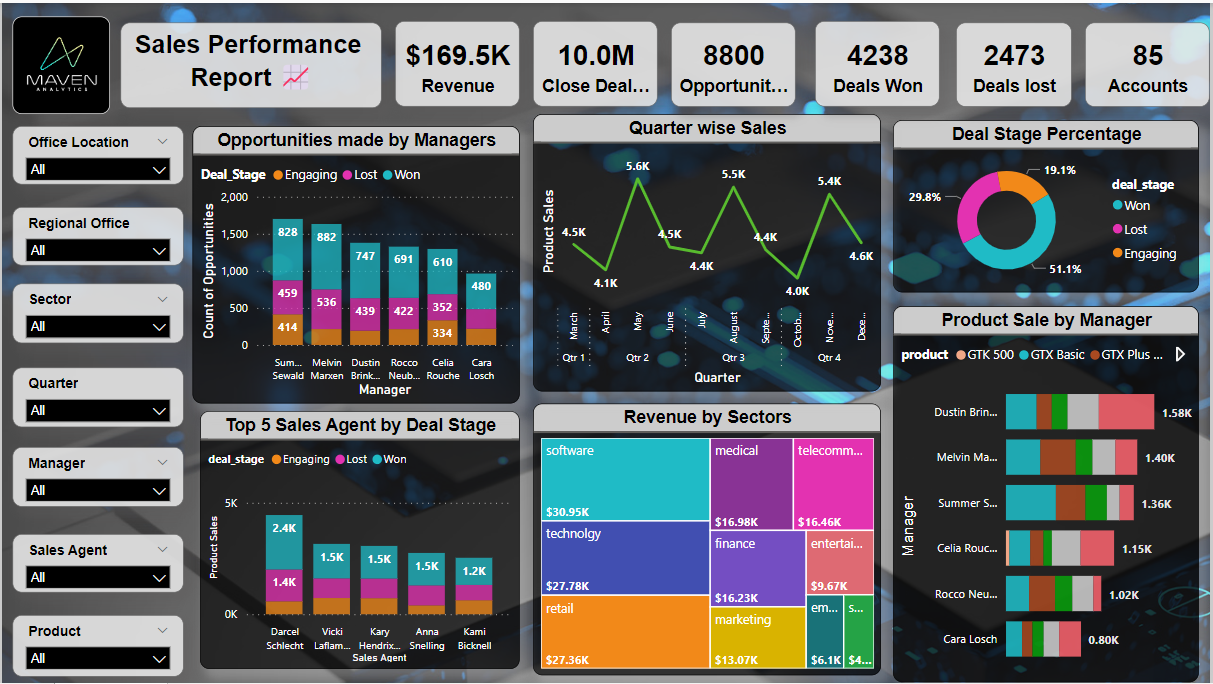

This screenshot's page, from the dashboard's own definition file:
{"tool":"powerbi","page":{"name":"Page 1","canvas":[1280,720],"ordinal":0},"visuals":[{"type":"image","box":[11.1,14.3,103.3,103.3],"z":0},{"type":"card","title":"Sum of Revenue","fields":{"Values":["accounts.revenue"]},"box":[416.4,19.1,131.9,90.6],"z":1000},{"type":"slicer","fields":{"Values":["sales_teams.regional_office"]},"box":[11.1,216.2,181.2,62],"z":2000},{"type":"slicer","fields":{"Values":["sales_pipeline.close_date.Variation.Date Hierarchy.Quarter"]},"box":[11.1,386.2,181.2,63.6],"z":3000},{"type":"slicer","fields":{"Values":["accounts.sector"]},"box":[11.1,297.2,181.2,63.6],"z":4000},{"type":"donutChart","title":"Deal Stage Percentage","fields":{"Category":["sales_pipeline.deal_stage"],"Y":["sales_pipeline.product"]},"box":[944.1,124,324.2,182.8],"z":5000},{"type":"treemap","title":"Revenue by Sectors","fields":{"Values":["accounts.revenue"],"Group":["accounts.sector"]},"box":[562.6,424.4,368.7,287.7],"z":6000},{"type":"barChart","title":"Product Sale by Manager","fields":{"Category":["sales_teams.manager"],"Y":["sales_pipeline.product"],"Series":["products.product"]},"box":[944.1,321.1,324.2,398.9],"z":7000},{"type":"card","fields":{"Values":["sales_pipeline.close_value"]},"box":[562.6,19.1,131.9,90.6],"z":8000},{"type":"card","fields":{"Values":["sales_pipeline.Deals lost"]},"box":[1010.9,20.7,122.4,89],"z":9000},{"type":"slicer","fields":{"Values":["products.product"]},"box":[11.1,648.5,181.2,65.2],"z":10000},{"type":"slicer","fields":{"Values":["sales_teams.manager"]},"box":[11.1,470.5,181.2,63.6],"z":11000},{"type":"slicer","fields":{"Values":["sales_pipeline.sales_agent"]},"box":[11.1,562.6,181.2,62],"z":12000},{"type":"card","fields":{"Values":["accounts.account"]},"box":[1147.5,20.7,131.9,89],"z":13000},{"type":"columnChart","title":"Top 5 Sales Agent by Deal Stage","fields":{"Category":["sales_pipeline.sales_agent"],"Y":["sales_pipeline.Product Sales"],"Series":["sales_pipeline.deal_stage"]},"box":[209.8,432.3,338.5,273.4],"z":14000},{"type":"lineChart","title":"Quarter wise Sales","fields":{"Y":["sales_pipeline.Product Sales"],"Category":["sales_pipeline.close_date.Variation.Date Hierarchy.Quarter","sales_pipeline.close_date.Variation.Date Hierarchy.Month"]},"box":[562.6,117.6,368.7,294],"z":15000},{"type":"textbox","box":[125.6,20.7,276.6,90.6],"z":16000},{"type":"slicer","fields":{"Values":["accounts.office_location"]},"box":[11.1,130.3,181.2,62],"z":17000},{"type":"card","fields":{"Values":["sales_pipeline.opportunity_id"]},"box":[708.9,20.7,131.9,89],"z":18000},{"type":"card","fields":{"Values":["sales_pipeline.Deals Won"]},"box":[861.5,19.1,131.9,90.6],"z":19000},{"type":"columnChart","title":"Opportunities made by Managers ","fields":{"Category":["sales_teams.manager"],"Y":["sales_pipeline.opportunity_id"],"Series":["sales_pipeline.deal_stage"]},"box":[201.9,130.3,346.5,294],"z":20000}]}

Visuals, with their boxes in screenshot pixels (x1, y1, x2, y2), scaled from the page's 1280x720 canvas onto the 1213x684 screenshot:
image: <box>11,14,108,112</box>
"Sum of Revenue" card: <box>395,18,520,104</box>
slicer - sales_teams.regional_office: <box>11,205,182,264</box>
slicer - sales_pipeline.close_date.Variation.Date Hierarchy.Quarter: <box>11,367,182,427</box>
slicer - accounts.sector: <box>11,282,182,343</box>
"Deal Stage Percentage" donutChart: <box>895,118,1202,291</box>
"Revenue by Sectors" treemap: <box>533,403,883,676</box>
"Product Sale by Manager" barChart: <box>895,305,1202,683</box>
card - sales_pipeline.close_value: <box>533,18,658,104</box>
card - sales_pipeline.Deals lost: <box>958,20,1074,104</box>
slicer - products.product: <box>11,616,182,678</box>
slicer - sales_teams.manager: <box>11,447,182,507</box>
slicer - sales_pipeline.sales_agent: <box>11,534,182,593</box>
card - accounts.account: <box>1087,20,1212,104</box>
"Top 5 Sales Agent by Deal Stage" columnChart: <box>199,411,520,670</box>
"Quarter wise Sales" lineChart: <box>533,112,883,391</box>
textbox: <box>119,20,381,106</box>
slicer - accounts.office_location: <box>11,124,182,183</box>
card - sales_pipeline.opportunity_id: <box>672,20,797,104</box>
card - sales_pipeline.Deals Won: <box>816,18,941,104</box>
"Opportunities made by Managers " columnChart: <box>191,124,520,403</box>
